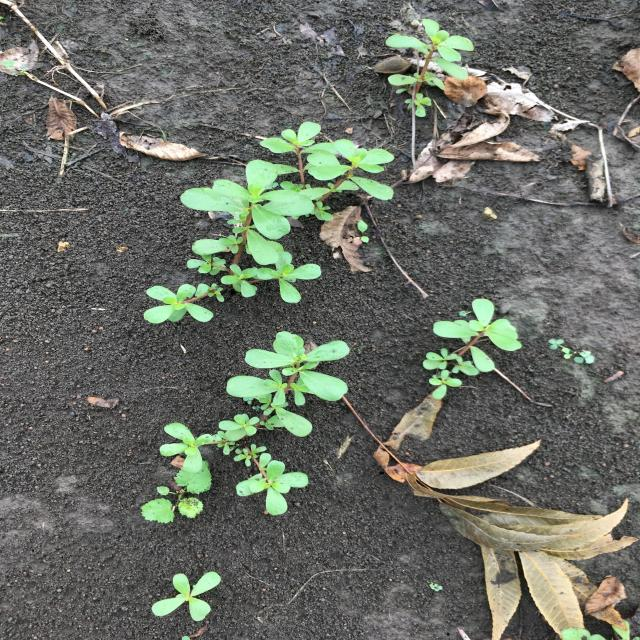PricklySida: (140, 460, 212, 524)
Purslane: (159, 331, 350, 516), (143, 159, 322, 323), (260, 121, 394, 222), (422, 299, 522, 399), (385, 19, 474, 117), (152, 572, 221, 622)
